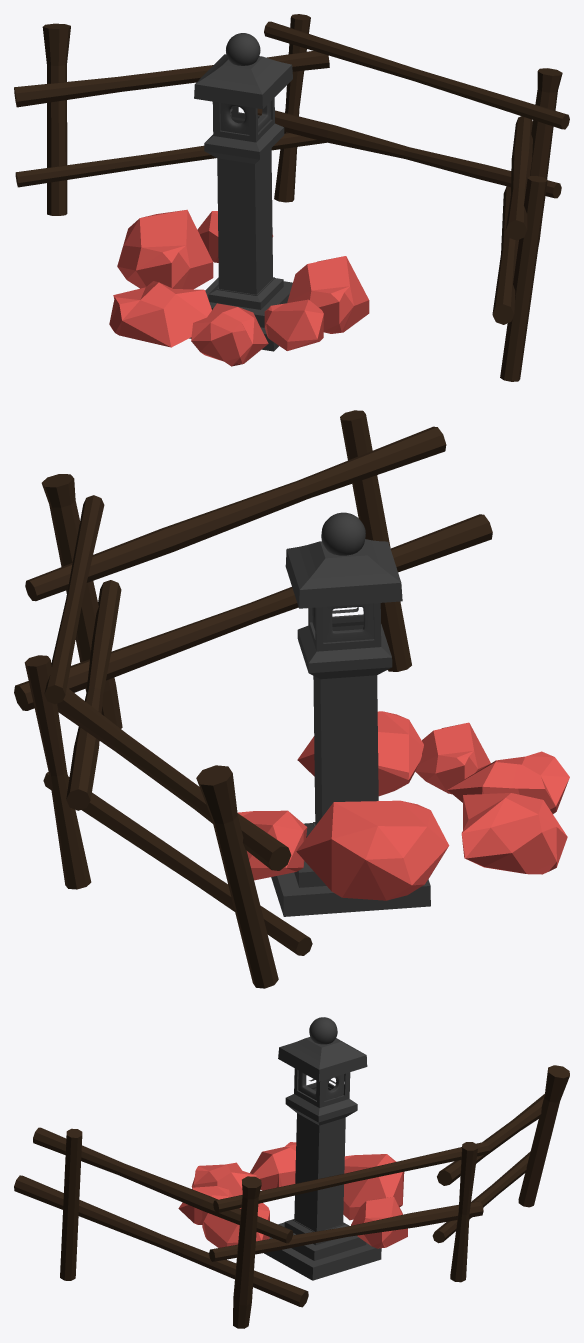
Rendered from Statue.fbx.
3 views of the same model, one above another, from view 1: azimuth 30°, elevation 25°; view 2: azimuth 150°, elevation 25°; view 3: azimuth 270°, elevation 25° (orthographic). The views are drawn at different scales.
Parts seen in each view (by area): view 1: zabor, stones, SO_003_Base, SO_003_Top, SO_003_Mid; view 2: zabor, stones, SO_003_Base, SO_003_Top, SO_003_Mid; view 3: zabor, SO_003_Base, stones, SO_003_Mid, SO_003_Top.
Boxes of the visible parts, bbox=[...] form: zabor: bbox=[14, 14, 569, 381]; stones: bbox=[109, 209, 369, 366]; SO_003_Base: bbox=[189, 54, 292, 351]; SO_003_Top: bbox=[226, 33, 260, 65]; SO_003_Mid: bbox=[220, 102, 270, 134]; zabor: bbox=[14, 410, 492, 988]; stones: bbox=[238, 711, 569, 900]; SO_003_Base: bbox=[271, 539, 430, 916]; SO_003_Top: bbox=[321, 512, 365, 555]; SO_003_Mid: bbox=[312, 603, 373, 642]; zabor: bbox=[14, 1065, 569, 1328]; SO_003_Base: bbox=[264, 1037, 381, 1280]; stones: bbox=[178, 1142, 407, 1248]; SO_003_Mid: bbox=[298, 1071, 344, 1100]; SO_003_Top: bbox=[309, 1017, 337, 1044].
Bounding box in the file's own units: 707 × 458 × 976.
